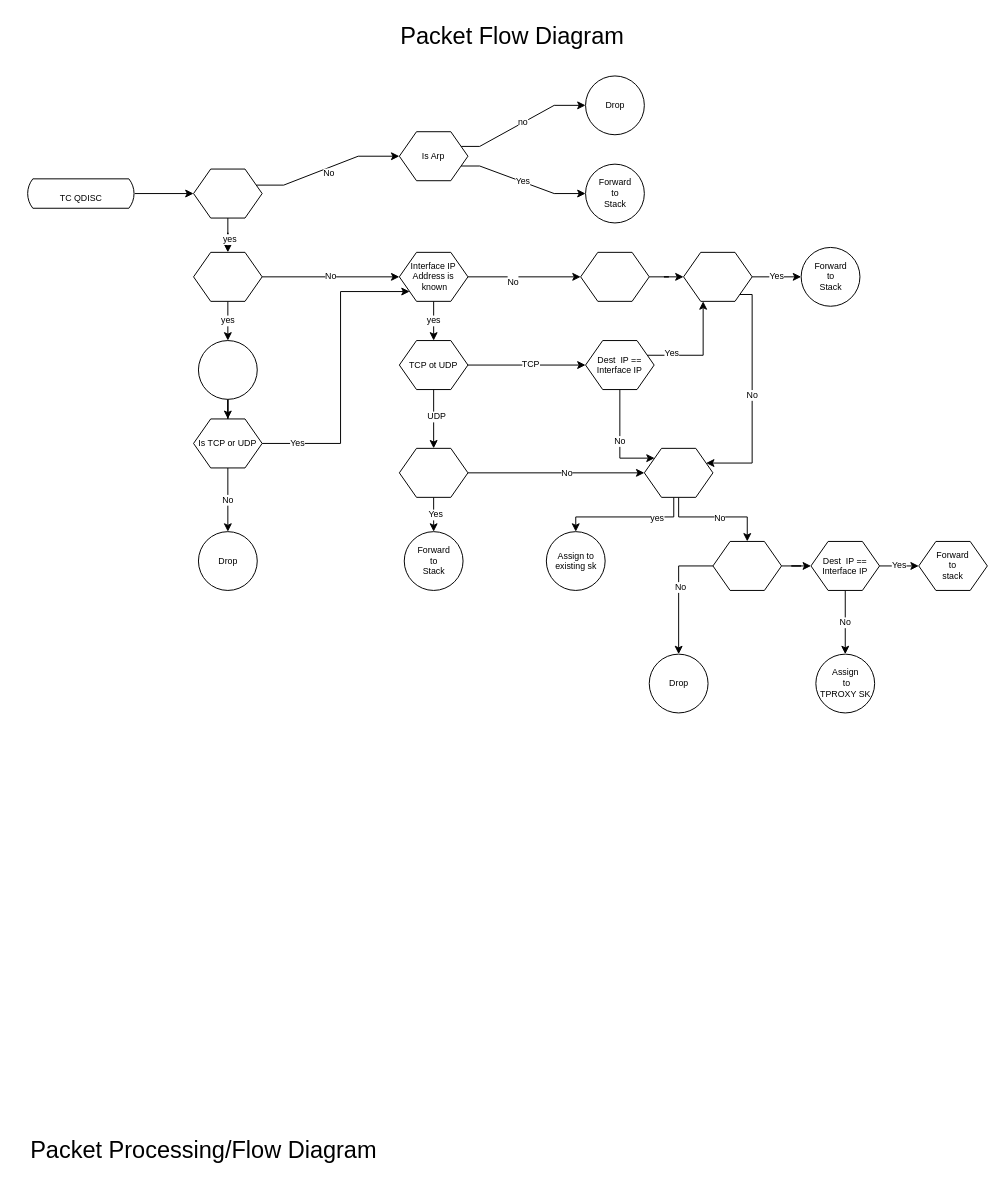
This 1005x1187 diagram has some shape labels left out. The shapes that lost their labels are listed below. From the top down, each one's centre as x and y in pixels, then its label:
At point (227, 193): "Is UDP/TCP Tuple".
At point (227, 276): "Is UDP && GENEVE".
At point (614, 276): "is TCP".
At point (717, 276): "is ssh".
At point (227, 369): "Strip Outer IP".
At point (433, 472): "is DHCP".
At point (678, 472): "Is existing flow".
At point (747, 565): "Flow Matches Rule in MAP".
